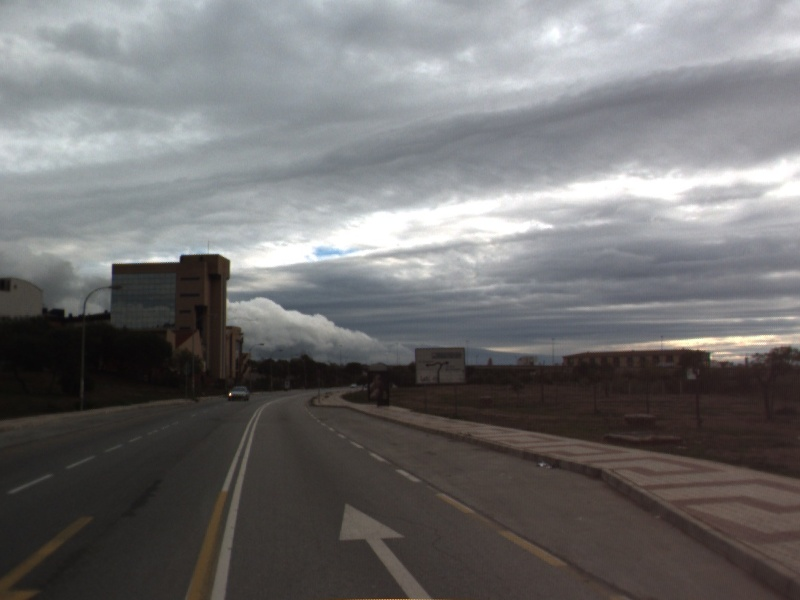STRAIGHT: (334, 498, 440, 600)
